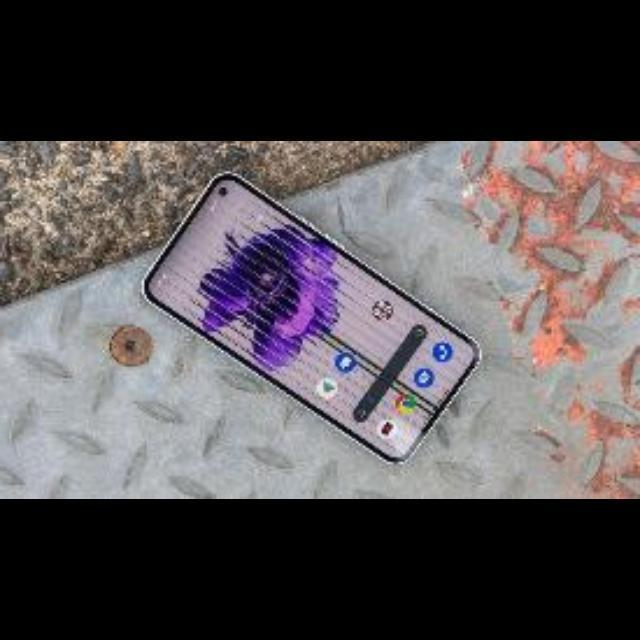mobile: (142, 174, 486, 467)
